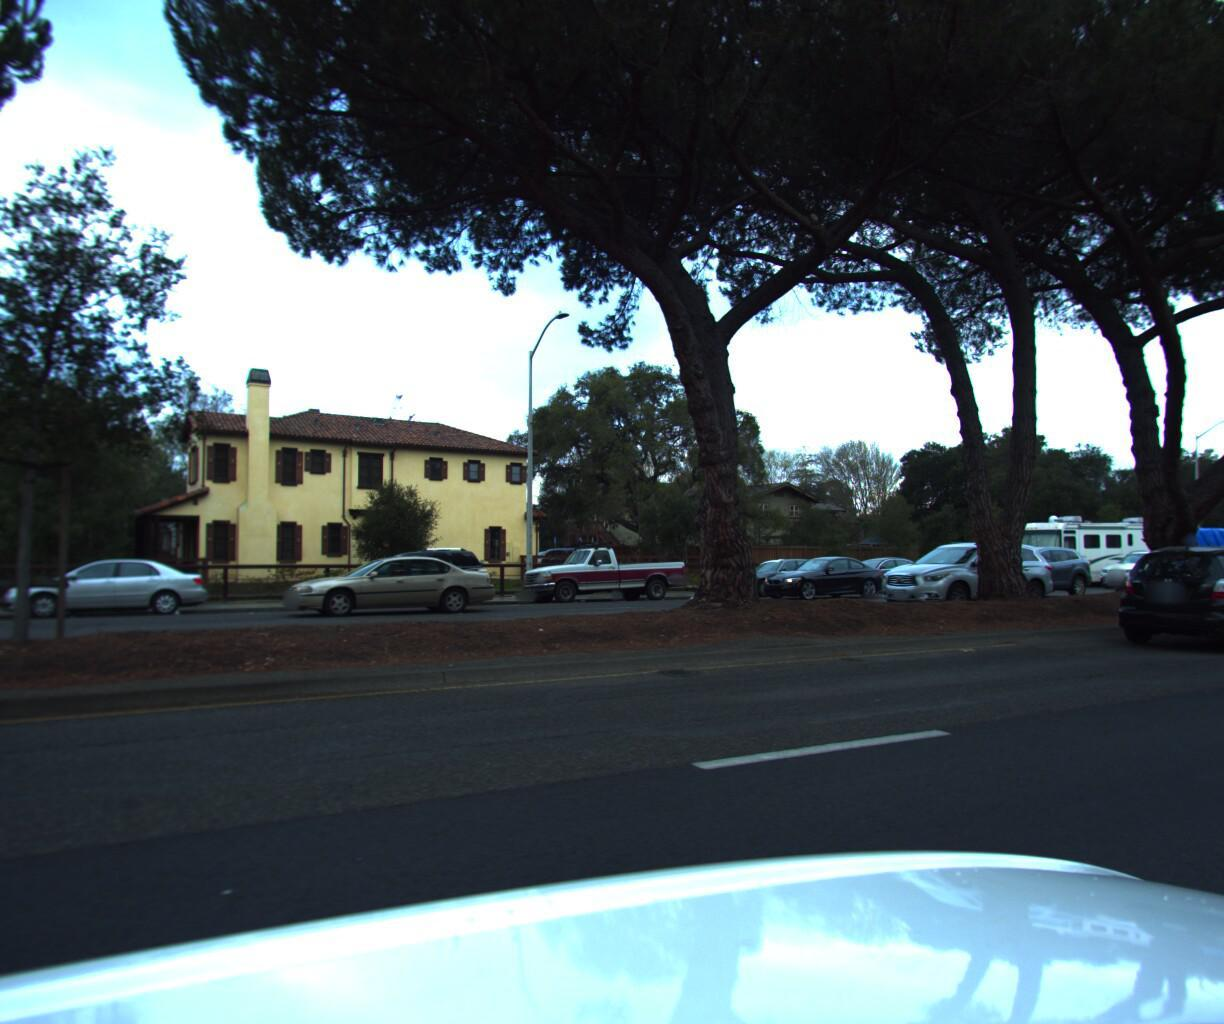car: (276, 554, 505, 624), (0, 556, 216, 629), (857, 534, 1065, 608), (1104, 544, 1224, 658), (510, 536, 689, 605), (324, 547, 492, 612), (961, 539, 1106, 594), (754, 547, 888, 596), (710, 556, 844, 597), (814, 553, 934, 594), (1086, 544, 1200, 585), (0, 560, 7, 633)
other_vehicle: (985, 502, 1176, 587), (1133, 518, 1224, 590)
